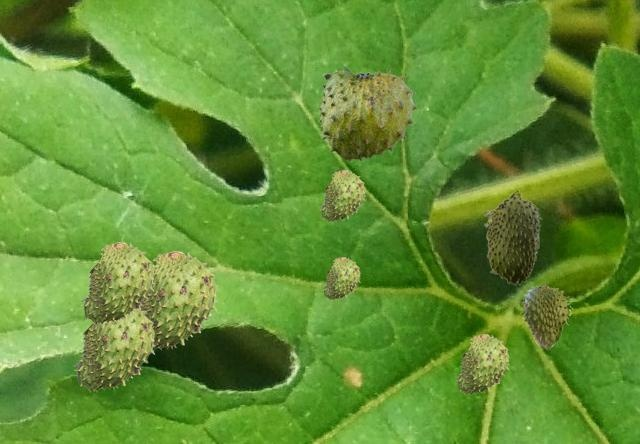guyabano: (317, 65, 417, 160), (141, 251, 216, 351), (73, 310, 154, 391), (80, 242, 153, 324), (484, 189, 541, 284), (520, 285, 572, 349), (455, 334, 508, 394), (319, 170, 364, 221), (322, 257, 359, 299)
